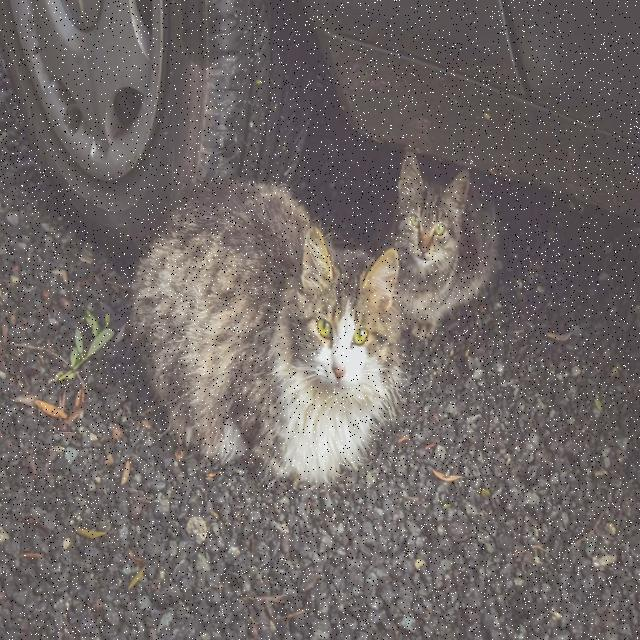cat: (135, 182, 401, 484), (394, 152, 498, 339)
